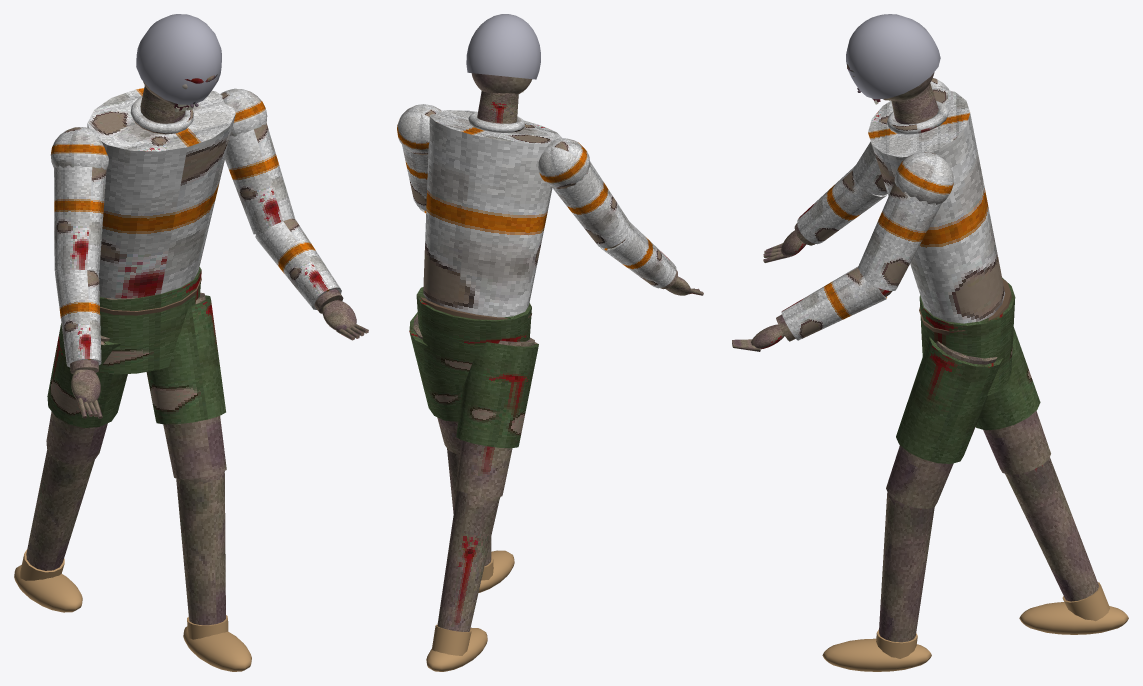
File: Zombie_093.glb
The picture shows the model from 3 angles, left to right: view 1: azimuth 30°, elevation 25°; view 2: azimuth 150°, elevation 25°; view 3: azimuth 270°, elevation 25°; orthographic projection. The views are drawn at different scales.
Parts seen in each view (by area): view 1: Zombie_093, object 43, object 4, object 12, object 5, object 13; view 2: Zombie_093, object 43, object 4, object 18; view 3: Zombie_093, object 43, object 12, object 4.
Part boxes in pixels (x1,y1,x2,y2): Zombie_093: [14, 85, 294, 671]; object 43: [136, 14, 221, 104]; object 4: [55, 269, 101, 367]; object 12: [255, 218, 341, 309]; object 5: [71, 369, 100, 403]; object 13: [322, 300, 356, 330]; Zombie_093: [397, 91, 631, 671]; object 43: [466, 14, 540, 79]; object 4: [600, 222, 676, 288]; object 18: [471, 73, 531, 94]; Zombie_093: [822, 78, 1128, 671]; object 43: [846, 14, 940, 99]; object 12: [781, 266, 886, 340]; object 4: [797, 165, 887, 244].
Size of the model in its own units: 0.7464 by 1.7 by 0.9575.
15 materials, 5 textured.
